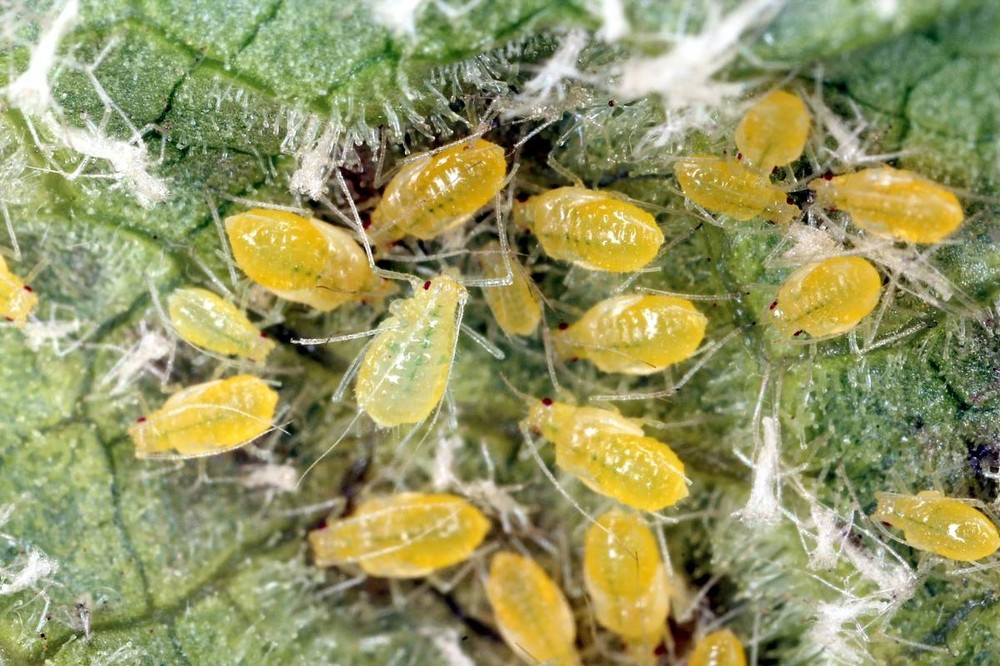Pulgon: (333, 261, 491, 449), (218, 183, 405, 334), (301, 469, 501, 585), (348, 123, 527, 238), (548, 279, 724, 395), (117, 371, 308, 469), (664, 142, 823, 258), (854, 463, 1000, 583), (749, 244, 904, 357), (817, 150, 980, 257), (576, 506, 693, 654), (510, 173, 677, 276), (855, 464, 1000, 582), (480, 540, 591, 665), (154, 274, 285, 379), (469, 227, 565, 342), (721, 80, 822, 174)
